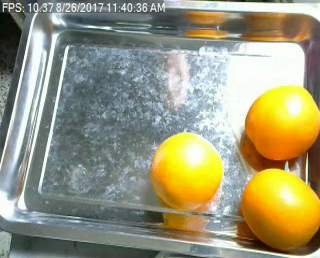Orange: (241, 167, 320, 251), (244, 83, 320, 159), (151, 132, 223, 211)
